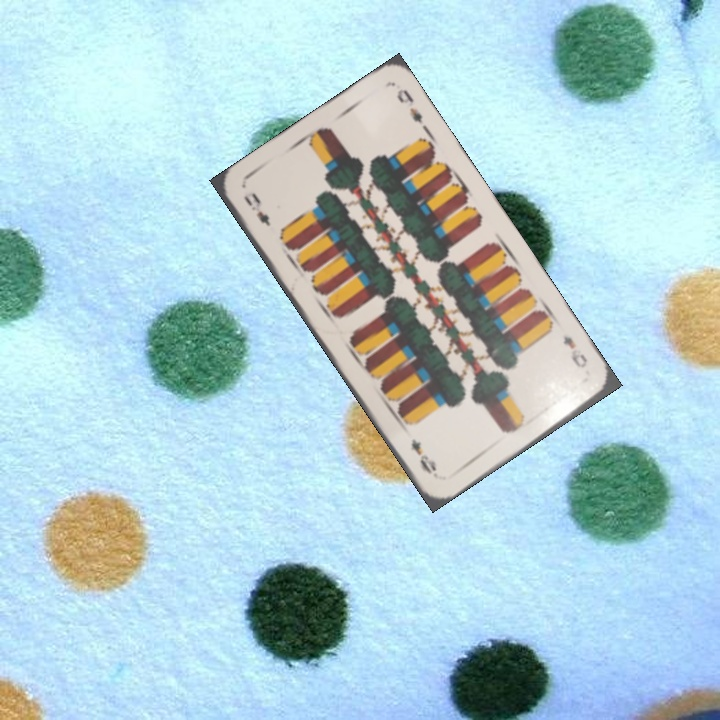E9: (239, 188, 274, 229), (558, 332, 591, 371)
